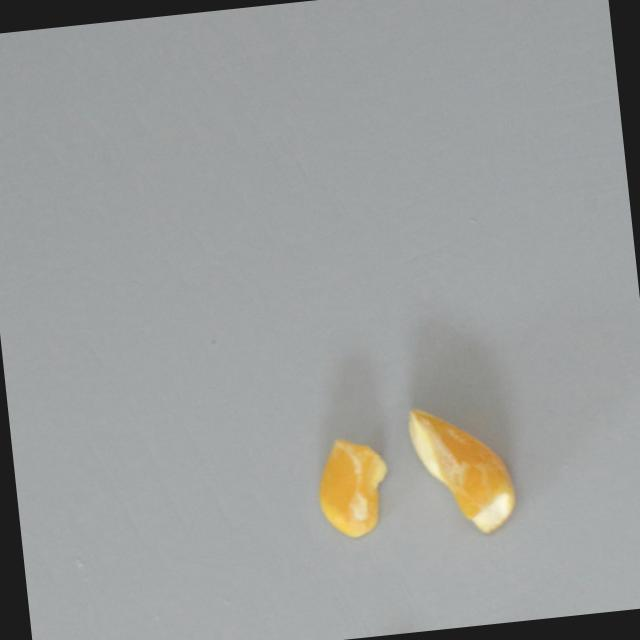pelicula: (398, 394, 517, 538), (306, 428, 396, 542)
